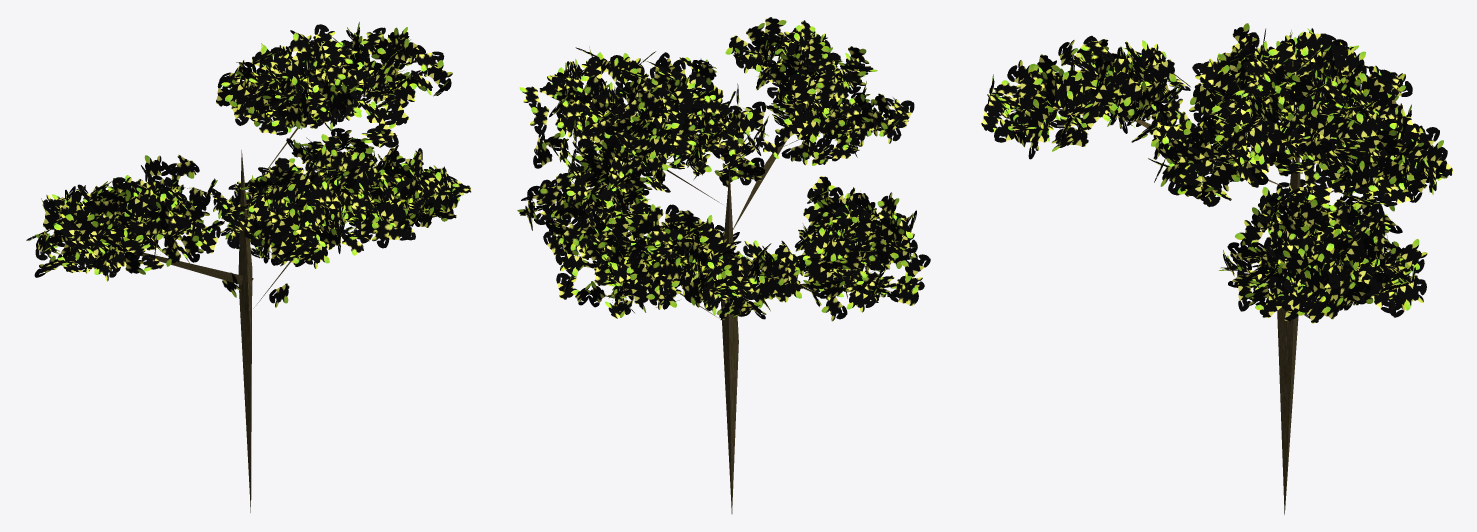
The model's file is acacia_flat_v01_LOD2.fbx.
3 renders of one model, left to right at view 1: azimuth 30°, elevation 25°; view 2: azimuth 150°, elevation 25°; view 3: azimuth 270°, elevation 25°, orthographic. The views are drawn at different scales.
Visible parts, largest first — view 1: acacia_flat_v01_LOD2; view 2: acacia_flat_v01_LOD2; view 3: acacia_flat_v01_LOD2.
Boxes of the visible parts, x1,y1,x2,y2 form: acacia_flat_v01_LOD2: (26,22,471,512); acacia_flat_v01_LOD2: (517,17,930,513); acacia_flat_v01_LOD2: (981,23,1453,514).
Bounding box in the file's own units: 931 × 807 × 950.
Materials: 2 (2 with a texture image).
